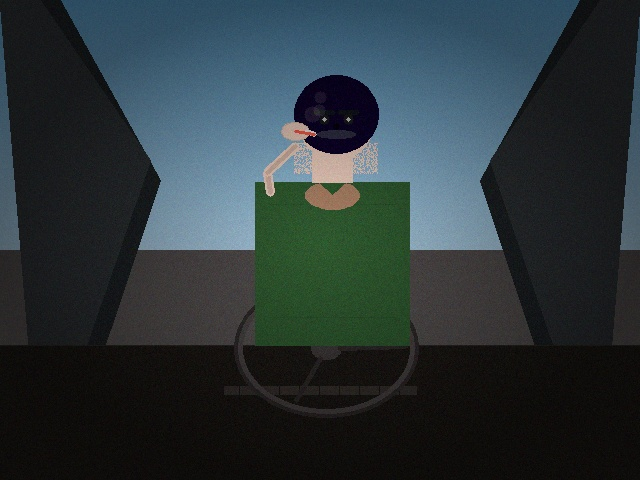smoking: (285, 116, 316, 146)
